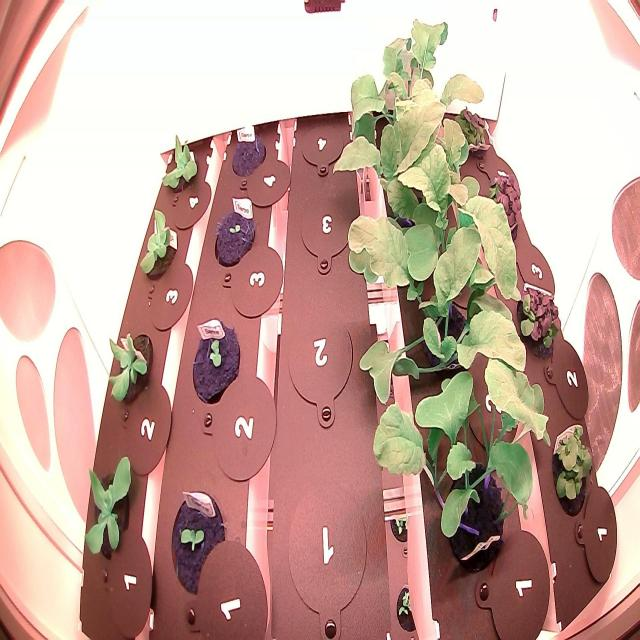empty_pod: (279, 474, 375, 625), (279, 304, 363, 430), (292, 179, 356, 280), (294, 105, 350, 184)
germination: (165, 483, 233, 605), (185, 318, 244, 414), (207, 200, 259, 278)
pod: (224, 114, 270, 190)
young: (80, 442, 140, 567), (100, 316, 161, 417), (134, 202, 180, 294), (158, 125, 202, 197)
